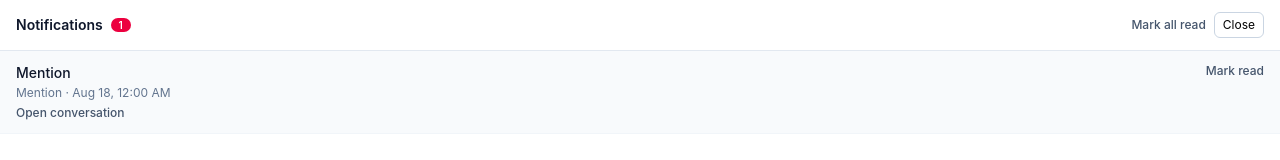
Test: NotificationCenter › marks a notification as read without leaving the list
Click the button "Mark read" at (1235, 71), box [1206,63,1264,79]
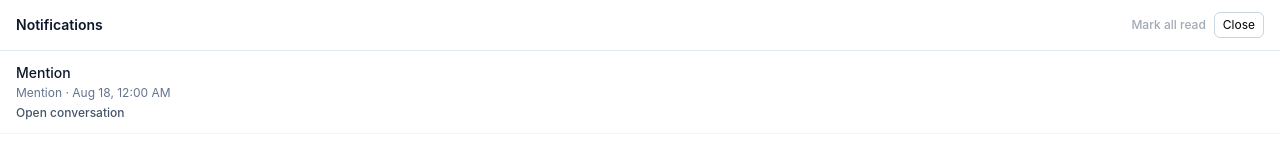
Expected: the text "Mention" is shown, [16,64,71,81]
Result: the button "Mark read" is gone
